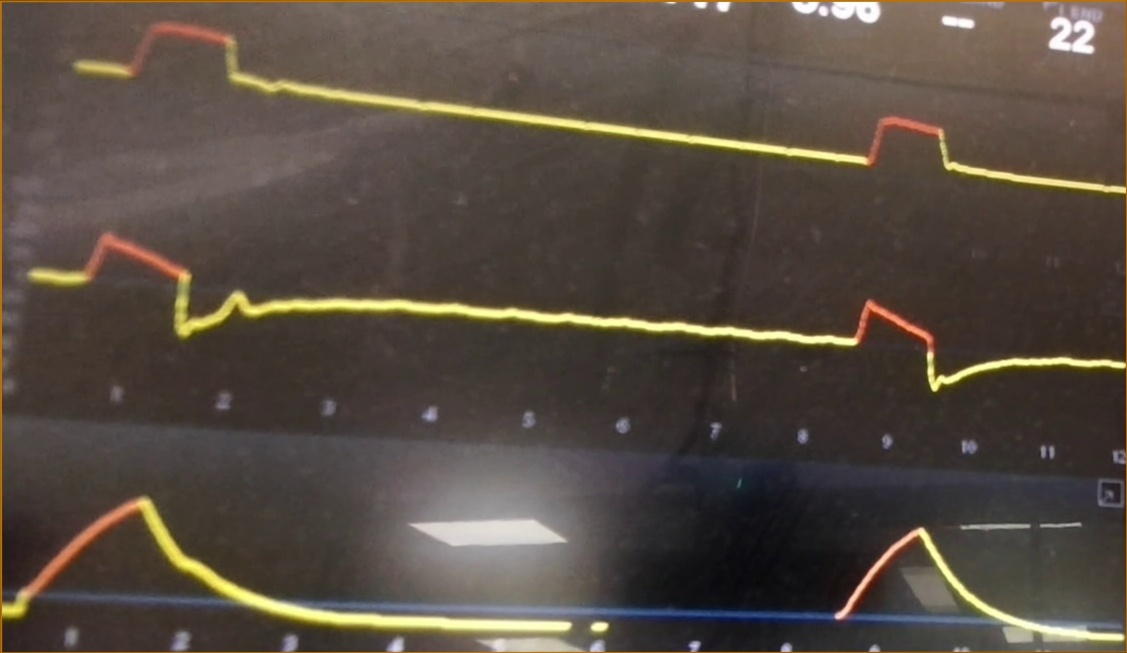Premature_cycling Flow: (30, 219, 1126, 394)
Premature_cycling Volume: (4, 474, 1098, 640)
